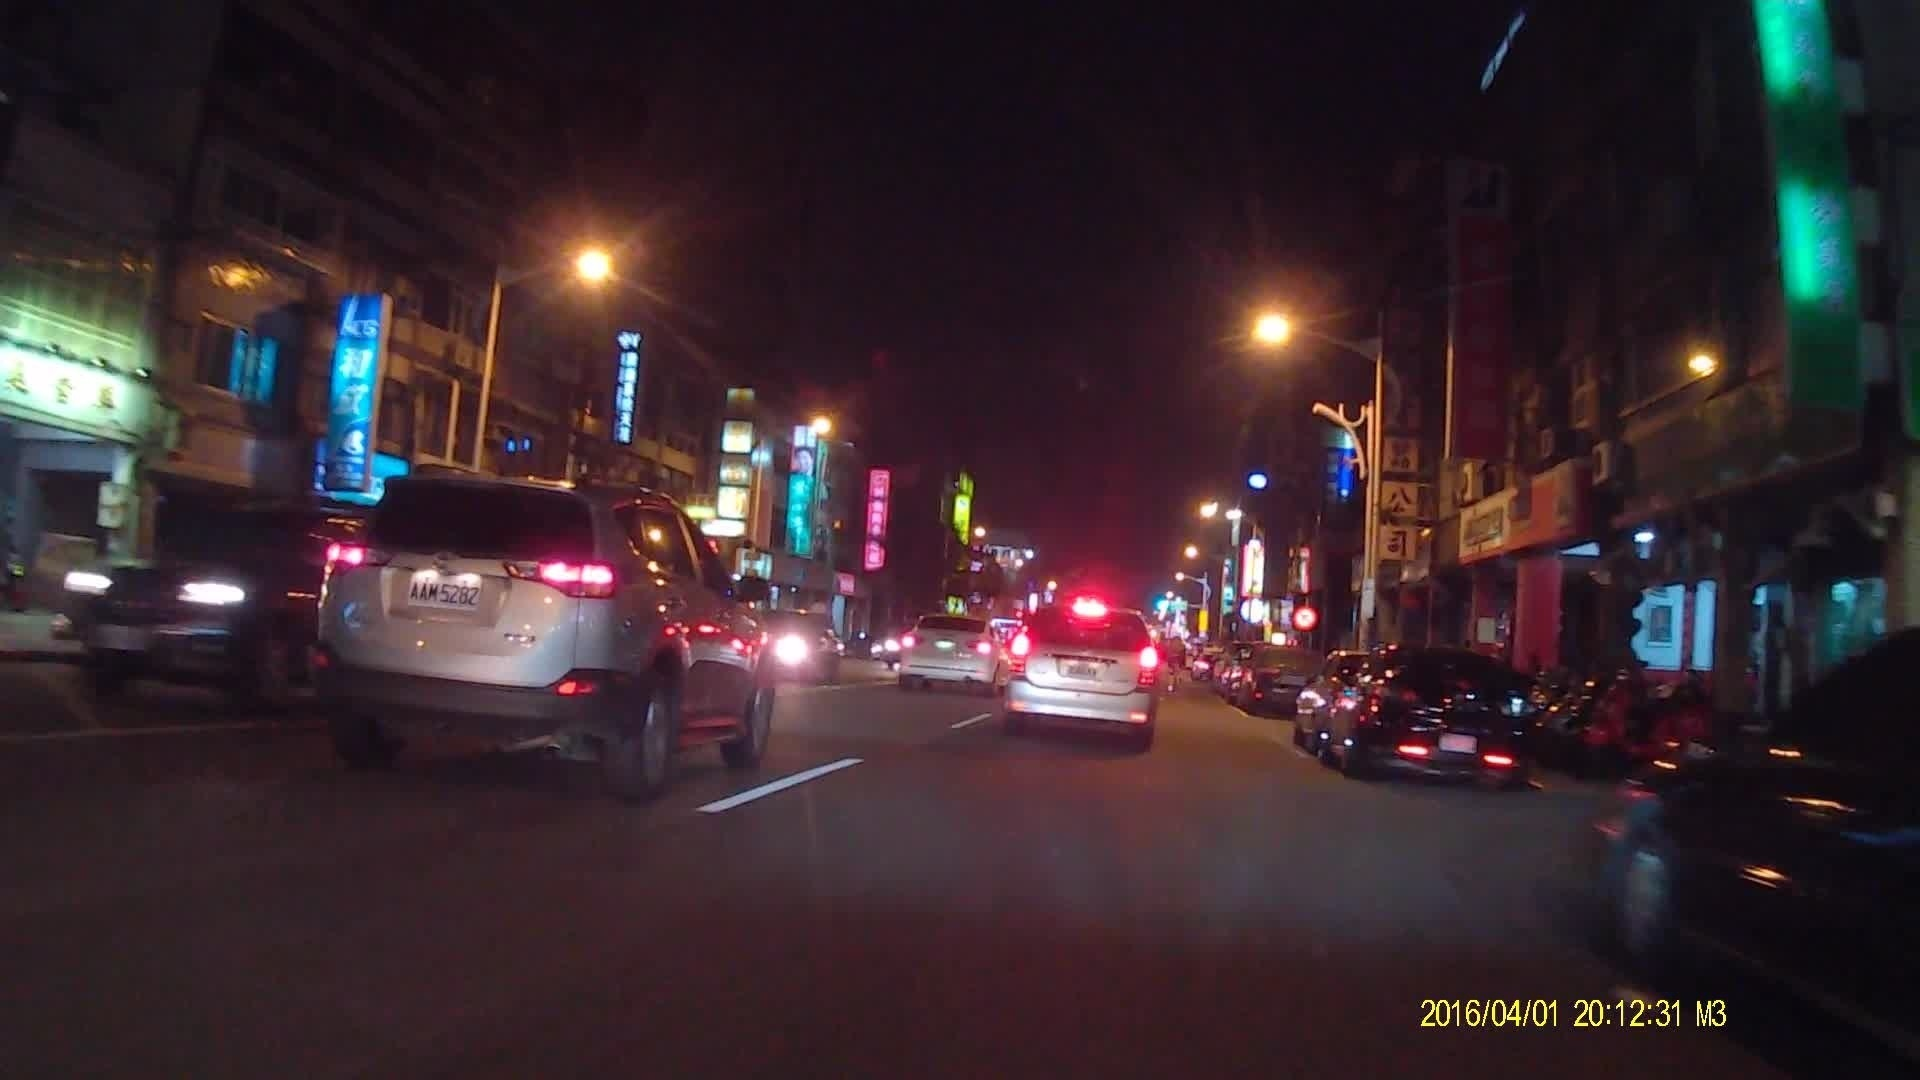License_plate: (405, 569, 484, 610), (1439, 731, 1476, 753), (1063, 662, 1096, 678)
